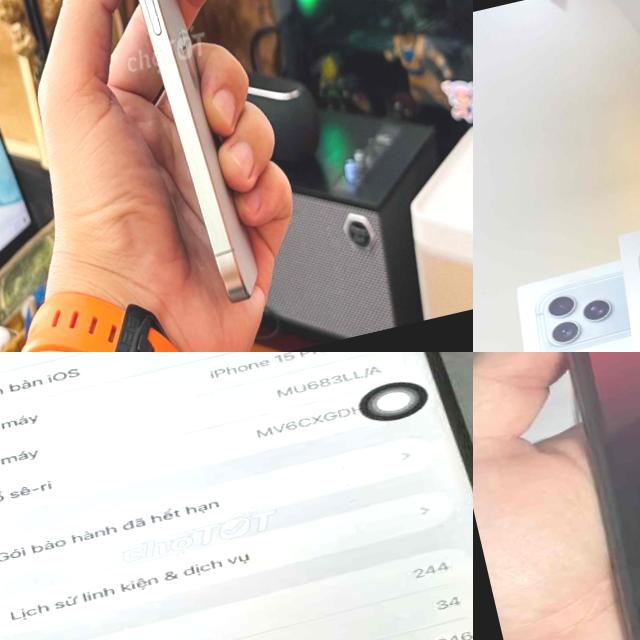gen_11: (501, 352, 640, 640)
gen_15: (0, 352, 473, 640), (73, 0, 283, 332)
